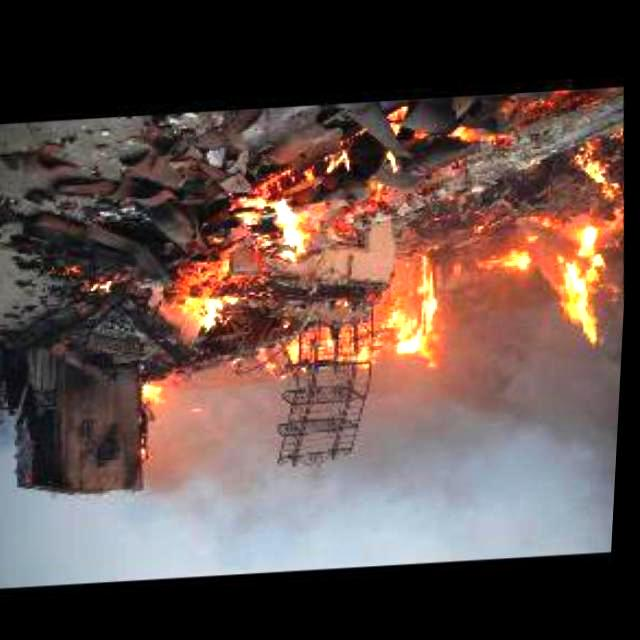fire: (156, 180, 344, 348), (292, 240, 472, 408), (496, 230, 626, 362), (256, 136, 356, 194), (562, 134, 630, 213), (445, 110, 519, 158), (355, 148, 409, 212), (128, 374, 180, 422), (81, 273, 119, 305)
